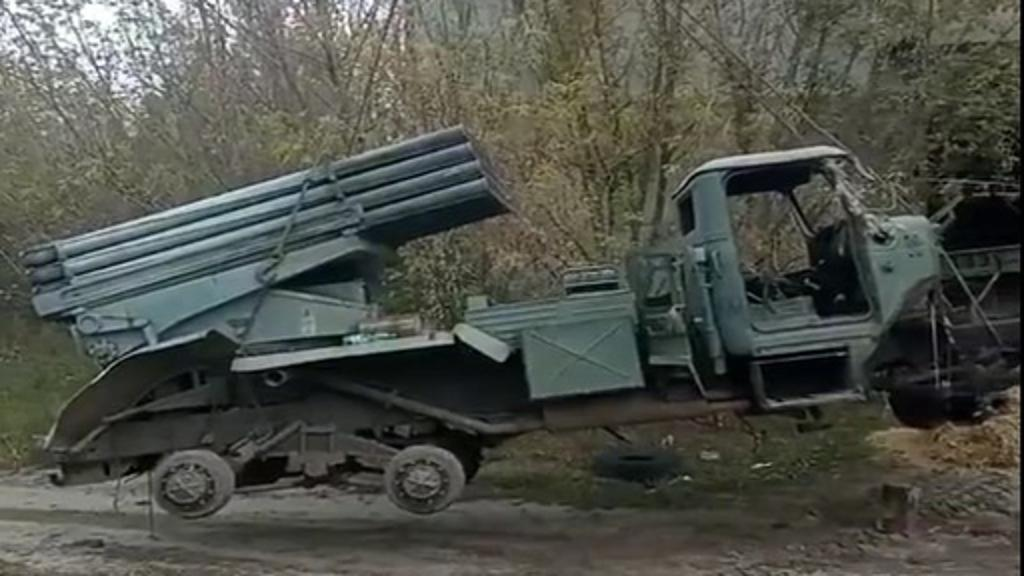MLRS: (20, 106, 1022, 532)
